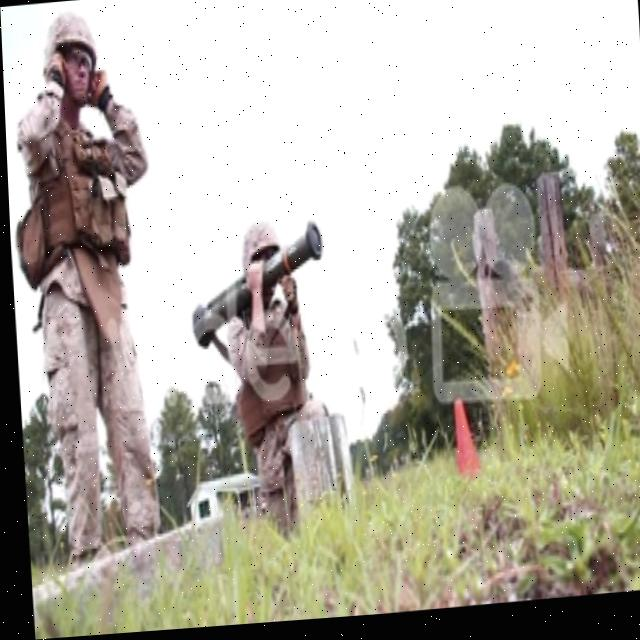rocket: (181, 218, 326, 370)
